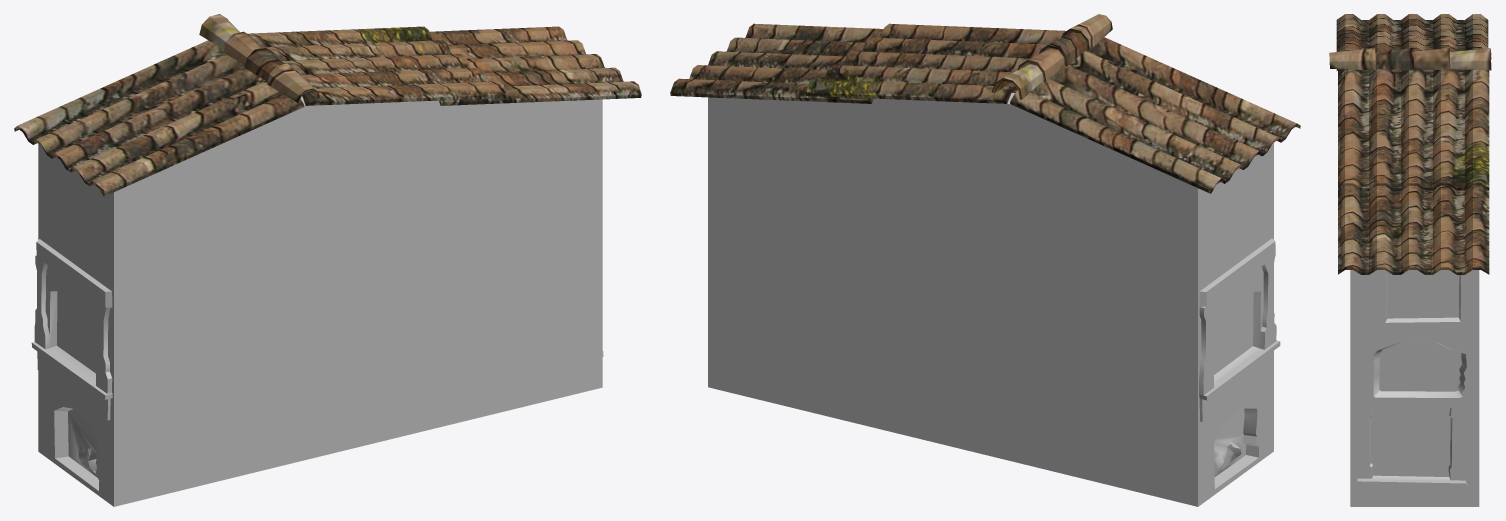
The model's file is nicho_grande_2.fbx.
3 views of the same model, side by side, from view 1: azimuth 30°, elevation 25°; view 2: azimuth 150°, elevation 25°; view 3: azimuth 270°, elevation 25° (orthographic). The views are drawn at different scales.
Parts seen in each view (by area): view 1: Cube.015, Cube.012, Cube.013, Cube.014, Cube.008, Cube.011, Cube.009, Cube.010; view 2: Cube.015, Cube.012, Cube.013, Cube.014, Cube.011, Cube.008, Cube.009, Cube.010; view 3: Cube.015, Cube.013, Cube.014, Cube.012, Cube.008, Cube.011, Cube.009, Cube.010.
Boxes of the visible parts, left/top/right/bottom form: Cube.015: left=31, top=96, right=603, bottom=506; Cube.012: left=14, top=40, right=304, bottom=196; Cube.013: left=247, top=26, right=506, bottom=105; Cube.014: left=429, top=26, right=641, bottom=105; Cube.008: left=267, top=63, right=319, bottom=103; Cube.011: left=199, top=14, right=240, bottom=49; Cube.009: left=244, top=47, right=283, bottom=81; Cube.010: left=223, top=31, right=262, bottom=65; Cube.015: left=708, top=93, right=1280, bottom=506; Cube.012: left=1010, top=37, right=1300, bottom=193; Cube.013: left=805, top=23, right=1065, bottom=103; Cube.014: left=670, top=23, right=883, bottom=103; Cube.011: left=991, top=64, right=1043, bottom=99; Cube.008: left=1061, top=14, right=1112, bottom=49; Cube.009: left=1039, top=32, right=1087, bottom=66; Cube.010: left=1017, top=48, right=1064, bottom=81; Cube.015: left=1350, top=270, right=1479, bottom=506; Cube.013: left=1338, top=69, right=1489, bottom=190; Cube.014: left=1338, top=185, right=1489, bottom=274; Cube.012: left=1336, top=14, right=1488, bottom=70; Cube.008: left=1329, top=48, right=1376, bottom=70; Cube.011: left=1449, top=48, right=1491, bottom=70; Cube.009: left=1375, top=48, right=1414, bottom=70; Cube.010: left=1413, top=48, right=1450, bottom=70.
Bounding box in the file's own units: 828 × 565 × 252.
